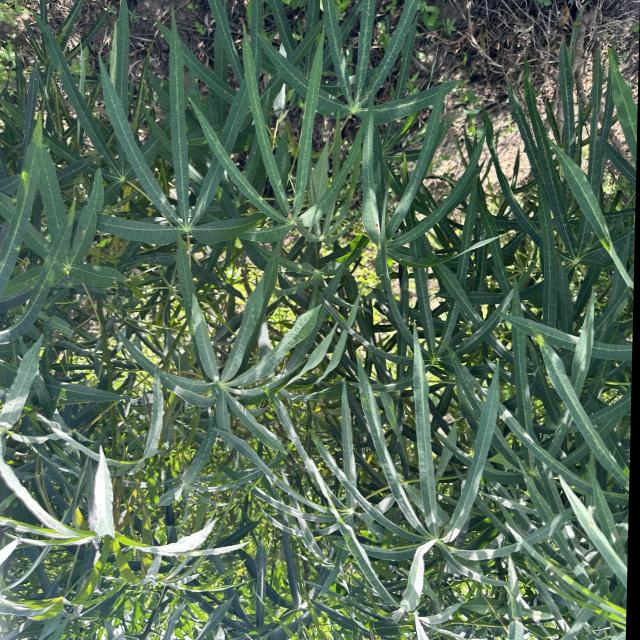Mosca: (200, 392, 218, 422), (79, 220, 93, 241), (282, 346, 293, 356), (301, 349, 309, 362)
